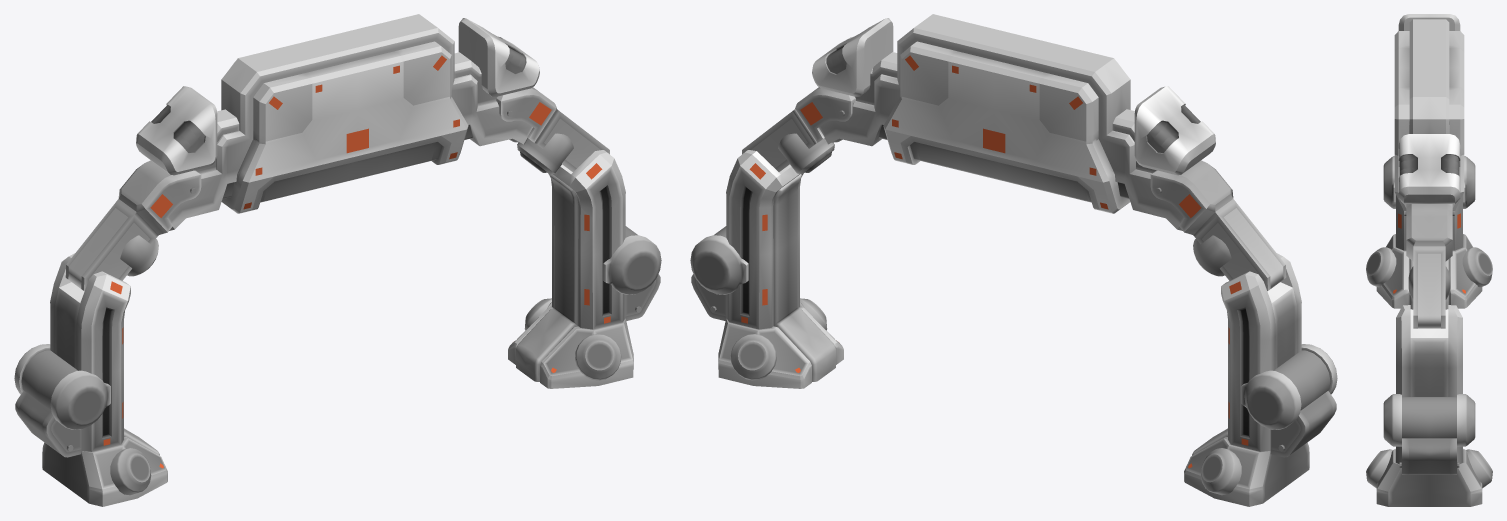
Rendered from env_minehub_gate.fbx.
3 renders of one model, left to right at view 1: azimuth 30°, elevation 25°; view 2: azimuth 150°, elevation 25°; view 3: azimuth 270°, elevation 25°, orthographic. The views are drawn at different scales.
Visible parts, largest first — view 1: Cube.001, Cube.009, Cube.013, t_meshdecal_mechanic01.001; view 2: Cube.001, Cube.009, Cube.013, t_meshdecal_mechanic01.001; view 3: Cube.009, Cube.001, Cube.013.
Part boxes in pixels (x1=…): Cube.001: x1=65, y1=14, x2=609, y2=290; Cube.009: x1=14, y1=150, x2=661, y2=506; Cube.013: x1=120, y1=18, x2=573, y2=276; t_meshdecal_mechanic01.001: x1=103, y1=55, x2=610, y2=468; Cube.001: x1=742, y1=14, x2=1286, y2=290; Cube.009: x1=690, y1=150, x2=1337, y2=506; Cube.013: x1=778, y1=18, x2=1231, y2=276; t_meshdecal_mechanic01.001: x1=741, y1=55, x2=1248, y2=468; Cube.009: x1=1366, y1=156, x2=1492, y2=506; Cube.001: x1=1394, y1=19, x2=1464, y2=328; Cube.013: x1=1398, y1=14, x2=1460, y2=299.
Size of the model in its own units: 566 by 332 by 115.
